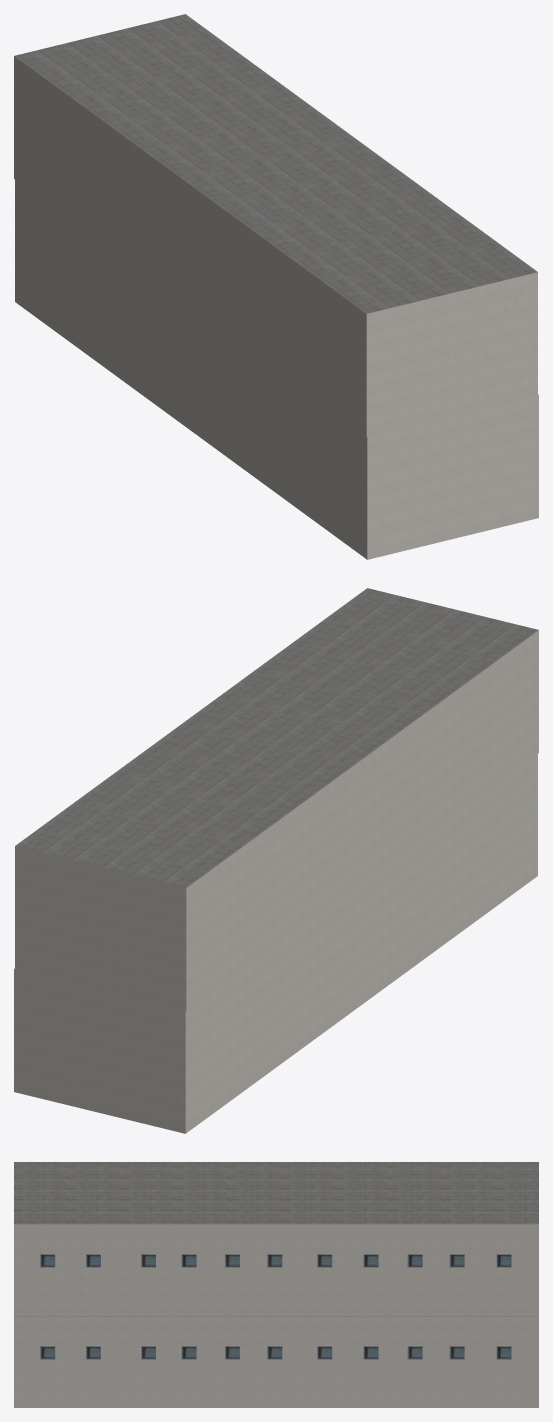
Rendered from techniClasses.gltf.
3 views of the same model, one above another, from view 1: azimuth 30°, elevation 25°; view 2: azimuth 150°, elevation 25°; view 3: azimuth 270°, elevation 25° (orthographic). The views are drawn at different scales.
Parts seen in each view (by area): view 1: node2, node3; view 2: node2, node3; view 3: node2, node3, node1.
Boxes of the visible parts, x1=… form: node2: x1=14, y1=56, x2=538, y2=559; node3: x1=14, y1=14, x2=538, y2=394; node2: x1=14, y1=630, x2=538, y2=1133; node3: x1=14, y1=588, x2=538, y2=968; node2: x1=14, y1=1224, x2=538, y2=1407; node3: x1=14, y1=1162, x2=538, y2=1316; node1: x1=40, y1=1254, x2=511, y2=1359.
Bounding box in the file's own units: 9.9 × 13.44 × 34.89.
